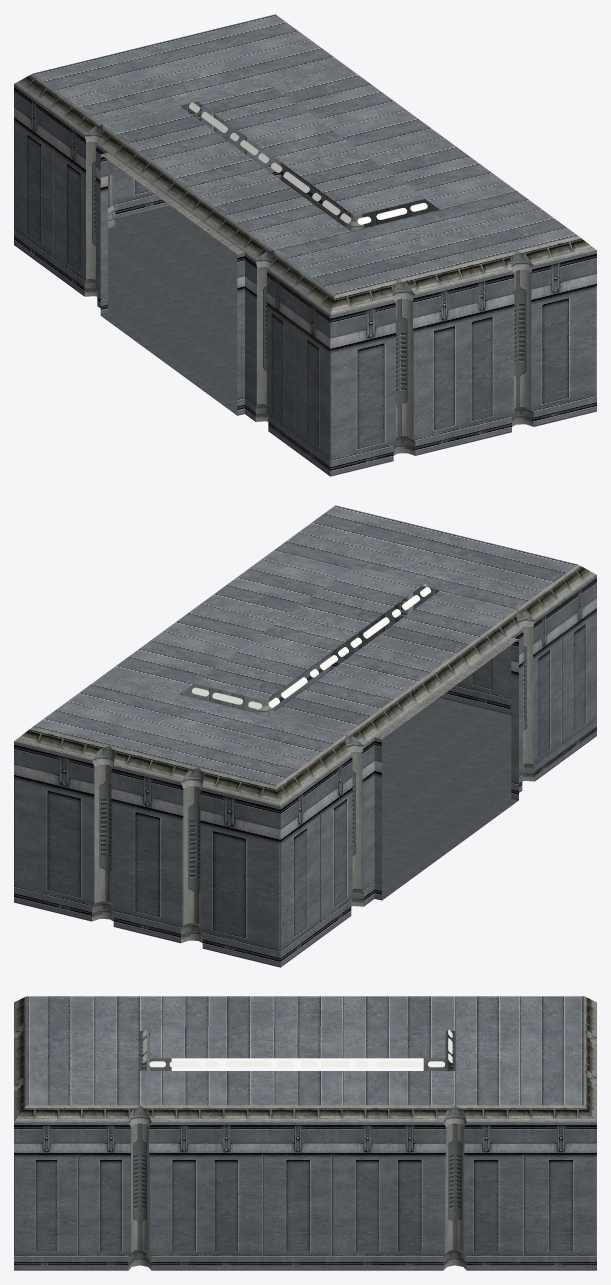
The model's file is thm_nboo_thed_emp_retreat_r11_inquisitor_mesh_r11.fbx.
3 views of the same model, one above another, from view 1: azimuth 30°, elevation 25°; view 2: azimuth 150°, elevation 25°; view 3: azimuth 270°, elevation 25° (orthographic). The views are drawn at different scales.
Parts seen in each view (by area): view 1: mesh_node; view 2: mesh_node; view 3: mesh_node.
Boxes of the visible parts, left/top/right/bottom form: mesh_node: left=14, top=14, right=596, bottom=476; mesh_node: left=14, top=505, right=596, bottom=967; mesh_node: left=14, top=996, right=596, bottom=1270.
Size of the model in its own units: 9.25 by 5.9 by 18.5.
